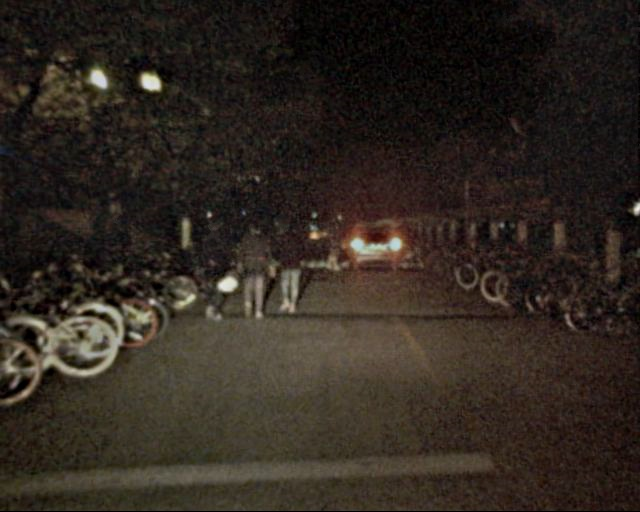person: (200, 213, 236, 323), (274, 214, 306, 318), (240, 223, 270, 322), (323, 227, 344, 272)
